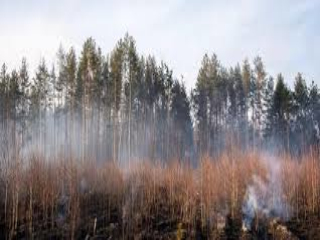smoke: (235, 151, 302, 232)
